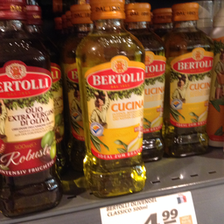oil: (75, 1, 148, 198), (1, 1, 63, 218), (164, 3, 214, 155)
